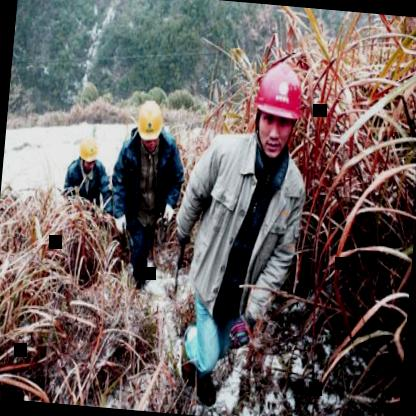helmet: (247, 60, 311, 163), (134, 96, 166, 152), (76, 134, 100, 169)
